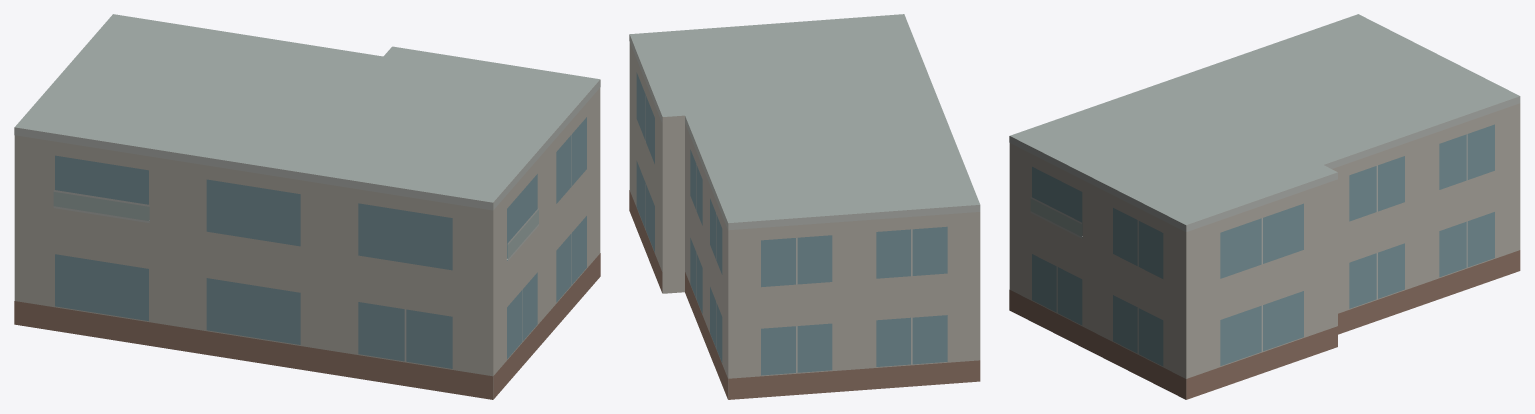
Rendered from survey-upis-32770908.glb.
The picture shows the model from 3 angles, left to right: view 1: azimuth 30°, elevation 25°; view 2: azimuth 150°, elevation 25°; view 3: azimuth 270°, elevation 25°; orthographic projection. The views are drawn at different scales.
Parts seen in each view (by area): view 1: survey-upis-32770908.tmp; view 2: survey-upis-32770908.tmp; view 3: survey-upis-32770908.tmp.
Boxes of the visible parts, <box> form: survey-upis-32770908.tmp: <box>14,14,600,399</box>; survey-upis-32770908.tmp: <box>629,14,980,399</box>; survey-upis-32770908.tmp: <box>1009,14,1520,399</box>.
Bounding box in the file's own units: 15.83 × 6.1 × 16.18.
